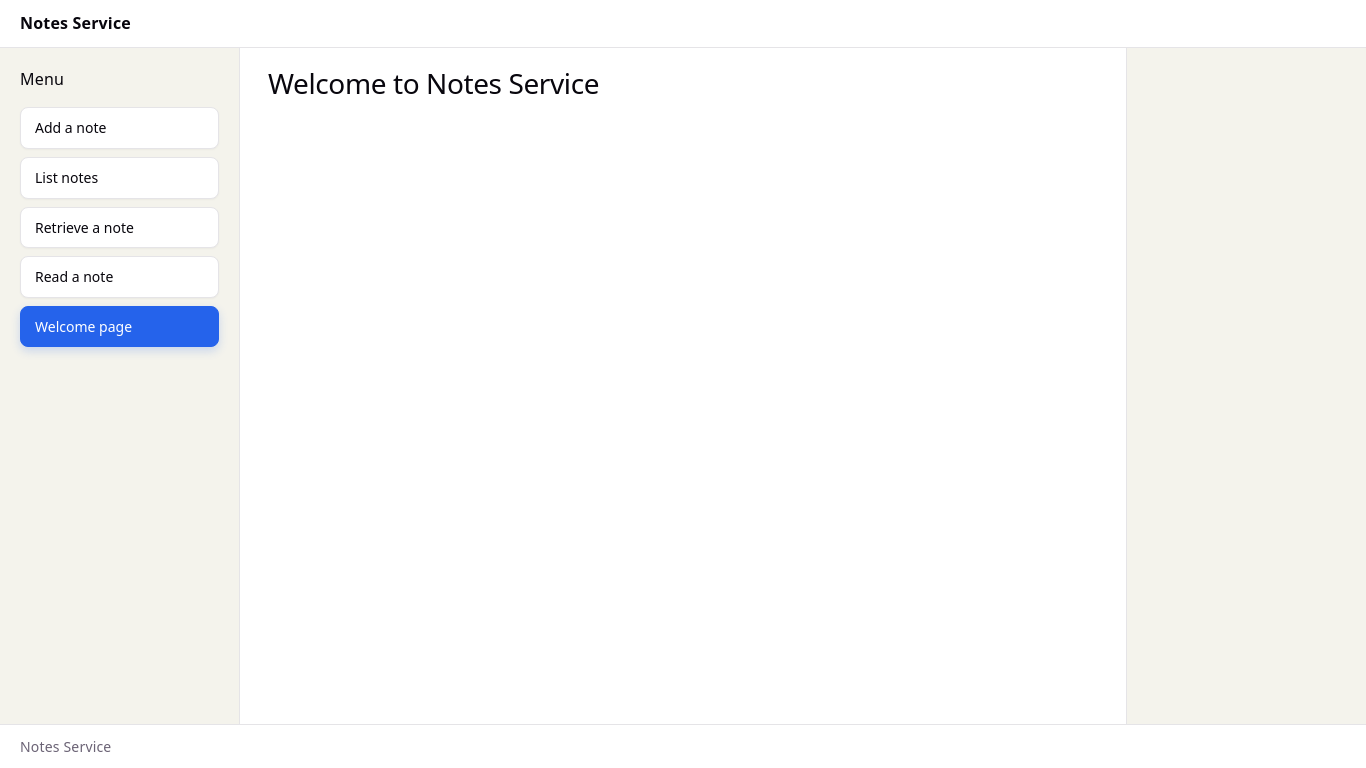
it: App Component Layout › updates main area and right panel titles when buttons are clicked
Note: Click "Add a note" button
Step 1. Click the button "Add a note" → (120, 128), box [20, 107, 219, 149]
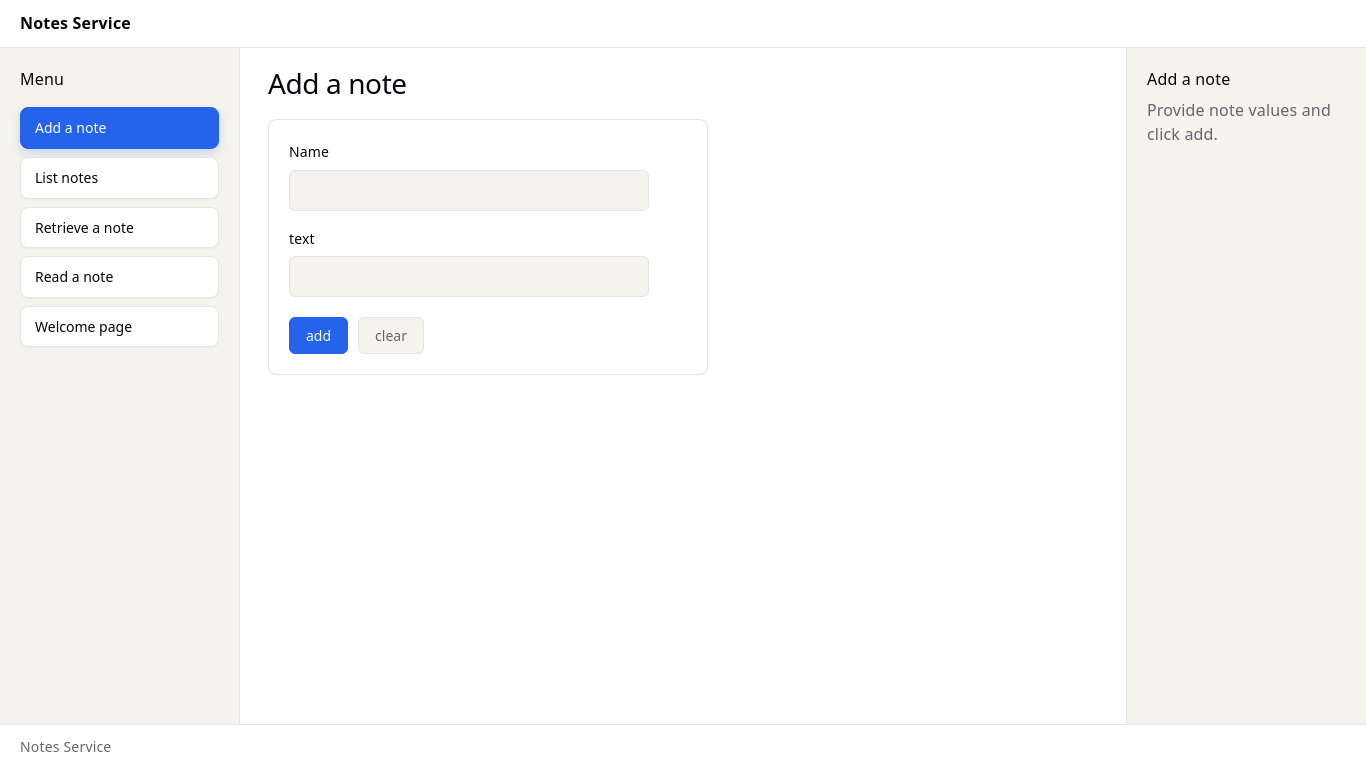
expect the 1st heading "Add a note" is shown: met, box [268, 64, 407, 102]
expect the 2nd heading "Add a note" is shown: met, box [1147, 68, 1230, 90]
expect the text "Provide note values and click add." is shown: met, box [1147, 99, 1346, 146]
Note: Click "List notes" button
Step 2. Click the button "List notes" → (120, 178), box [20, 157, 219, 199]
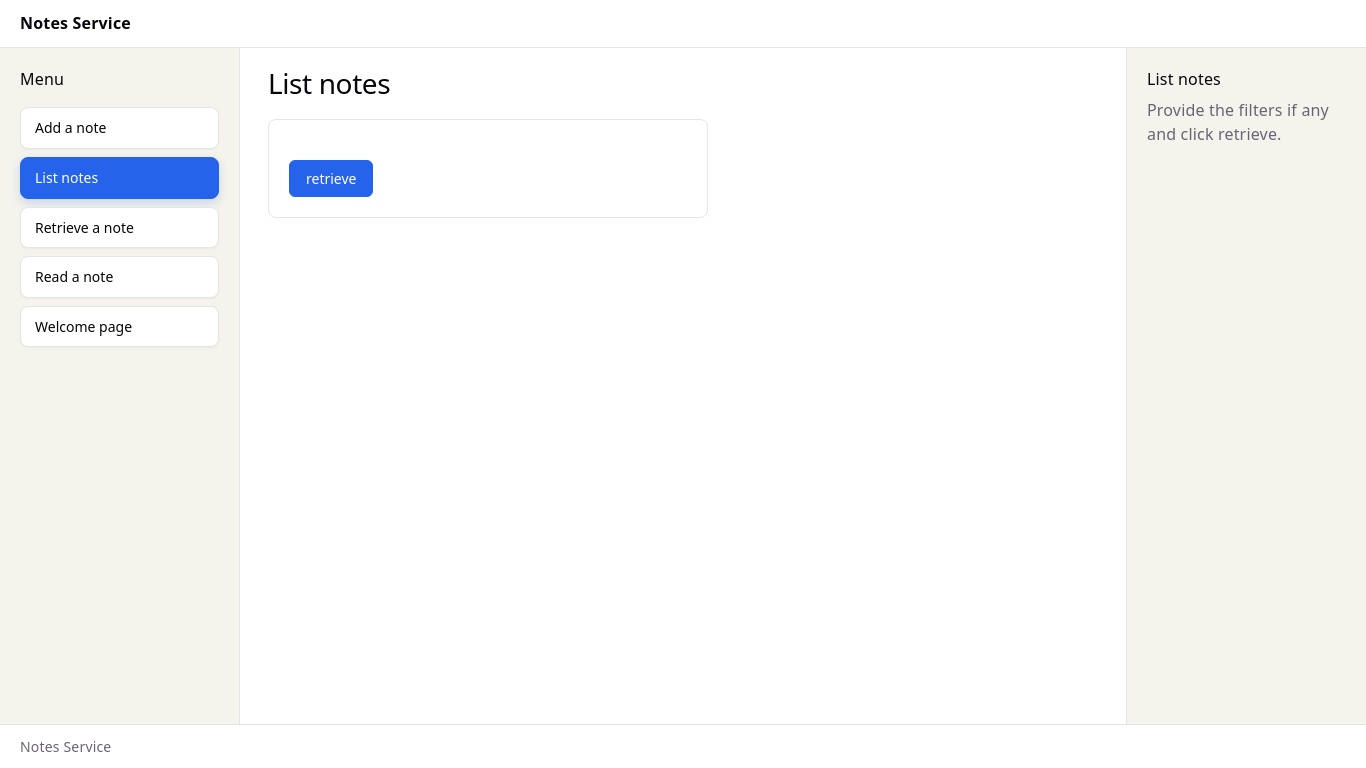
expect the 1st heading "List notes" is shown: met, box [268, 64, 390, 102]
expect the 2nd heading "List notes" is shown: met, box [1147, 68, 1221, 90]
expect the text "Provide the filters if any and click retrieve." is shown: met, box [1147, 99, 1346, 146]
Note: Click "Retrieve a note" button
Step 3. Click the button "Retrieve a note" → (120, 227), box [20, 207, 219, 248]
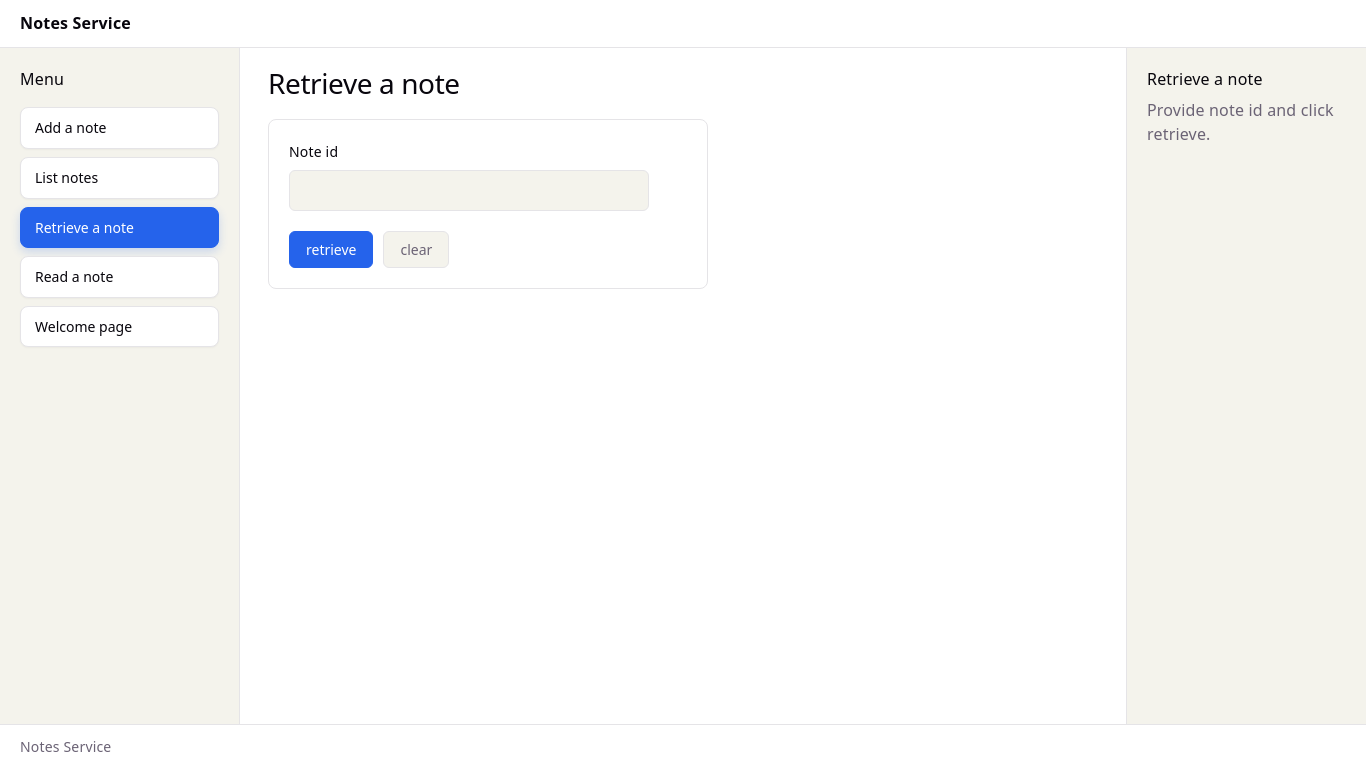
expect the 1st heading "Retrieve a note" is shown: met, box [268, 64, 460, 102]
expect the 2nd heading "Retrieve a note" is shown: met, box [1147, 68, 1263, 90]
expect the text "Provide note id and click retrieve." is shown: met, box [1147, 99, 1346, 146]
